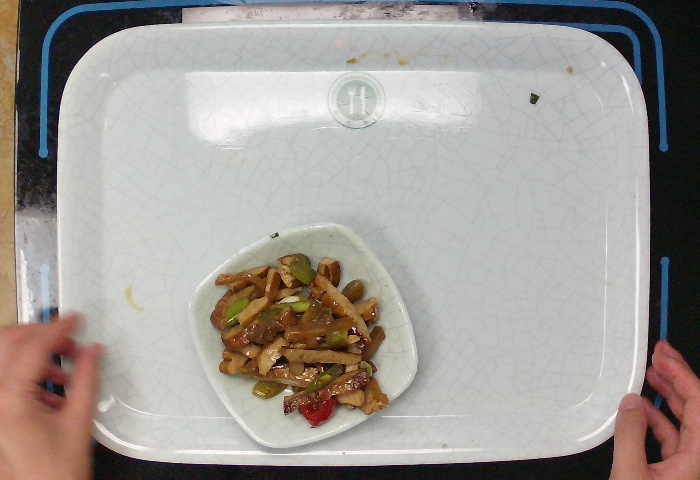WCQzf-Da_Si_Fang_Die: (181, 217, 423, 453)
